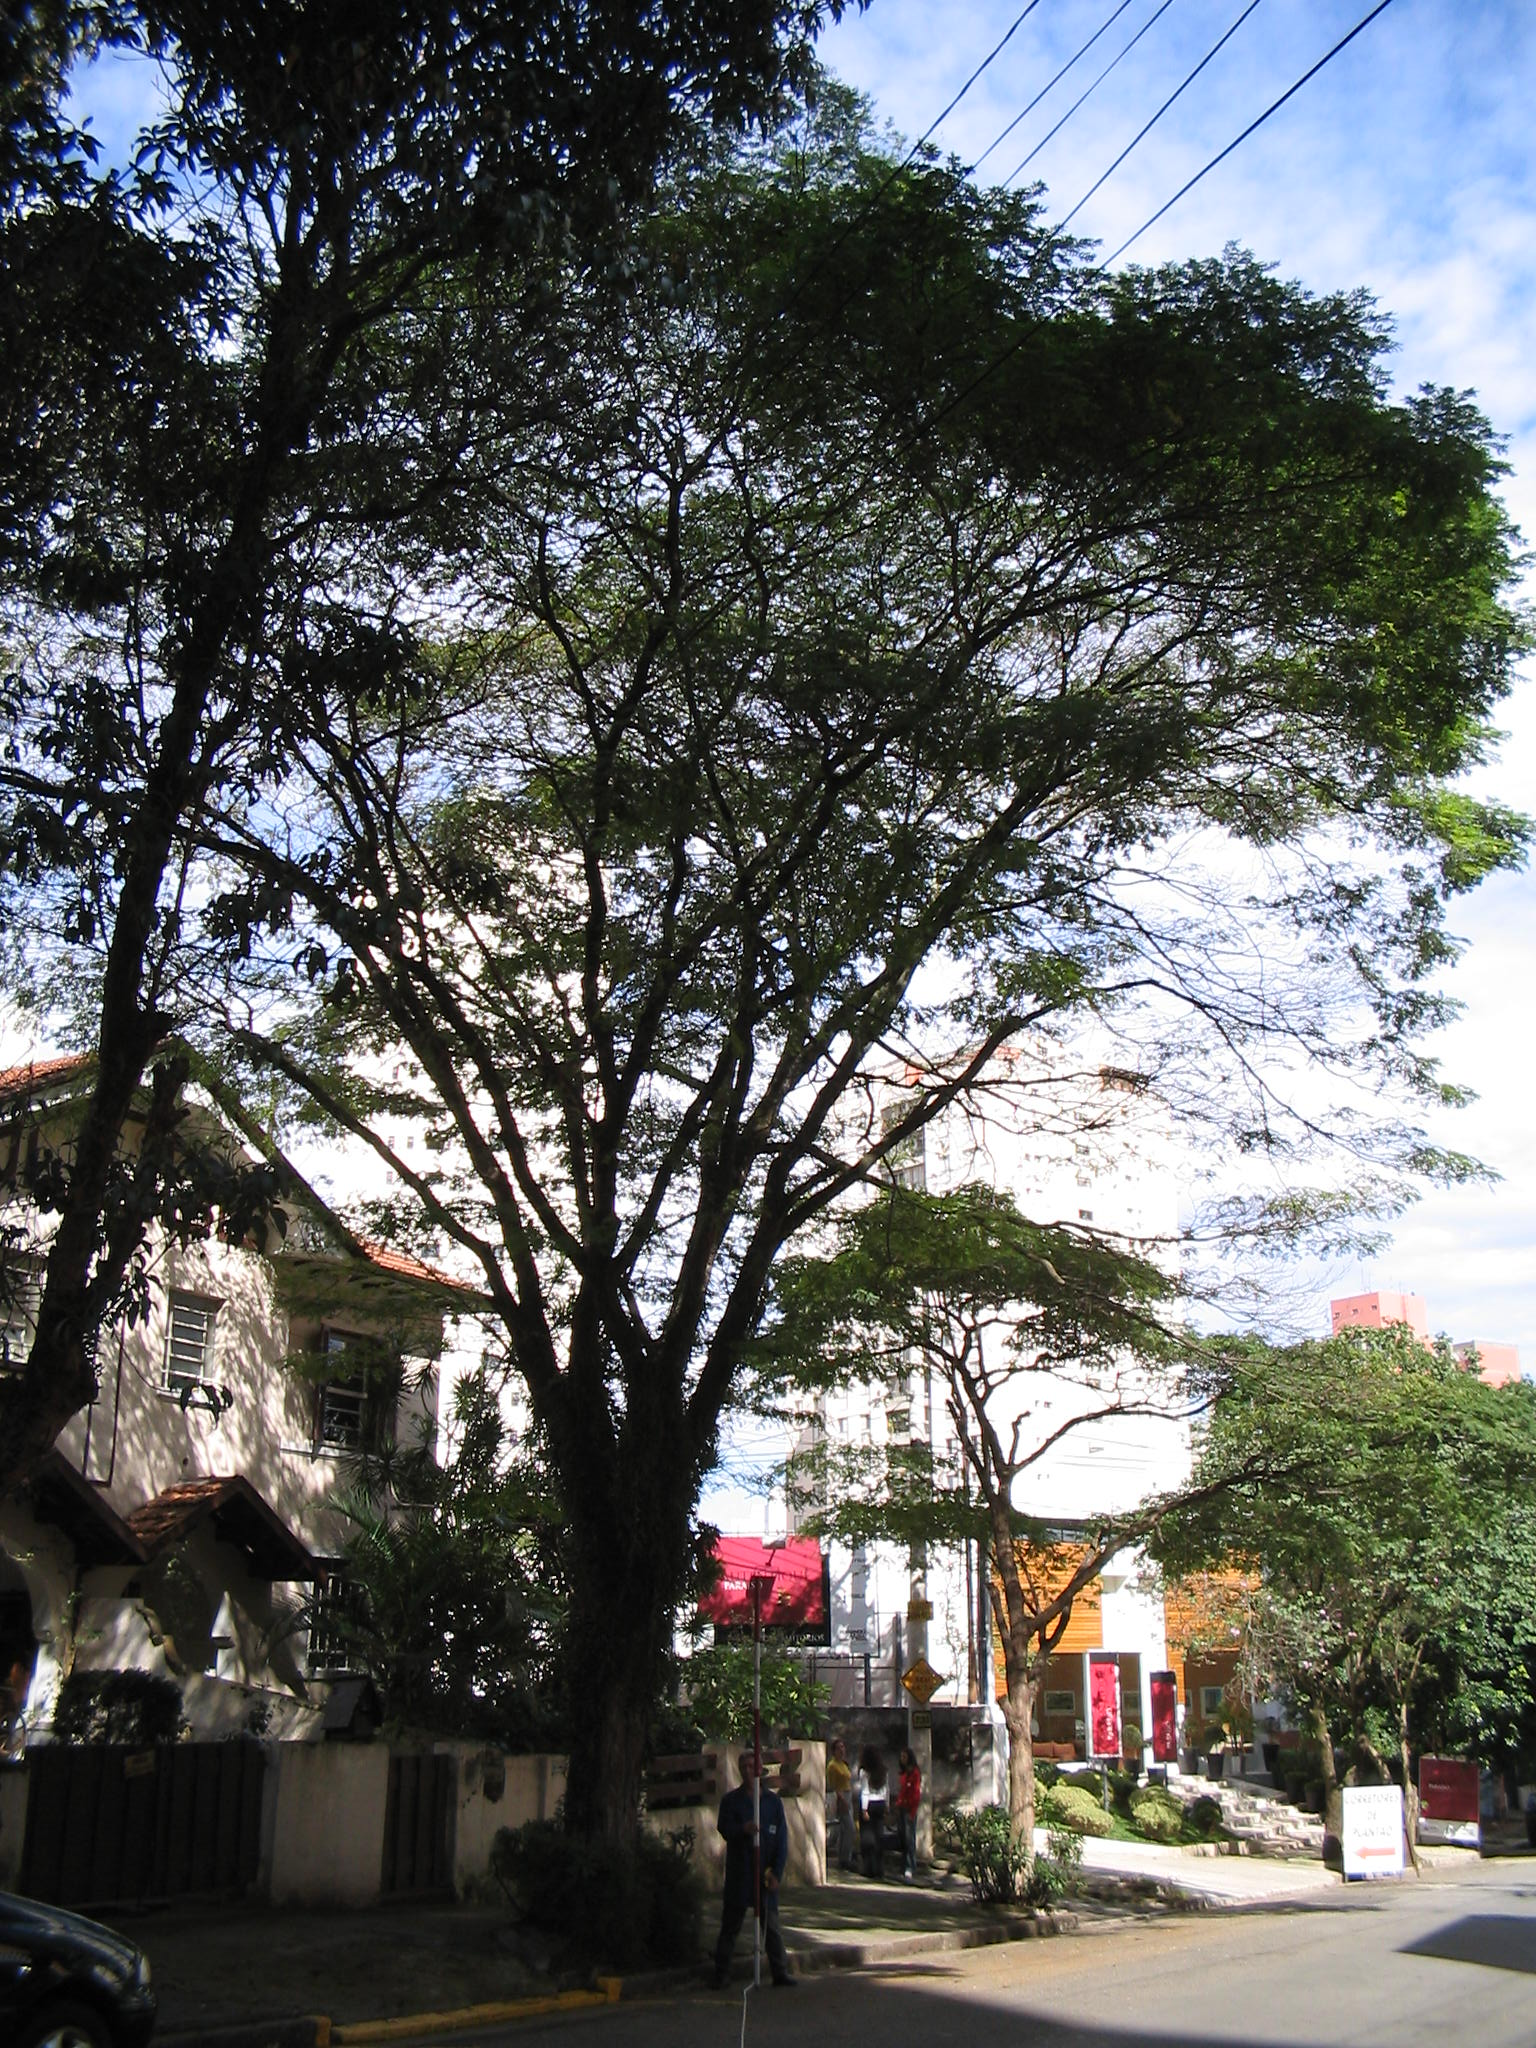crown: (15, 87, 1530, 1216)
stem: (516, 1513, 700, 1961)
stick: (734, 1577, 779, 1990)
tree: (3, 79, 1536, 1959)
